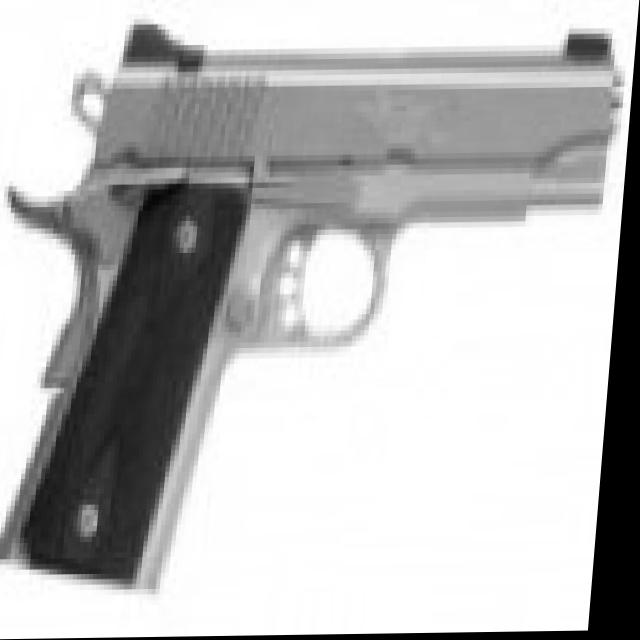handgun: (0, 19, 634, 592)
